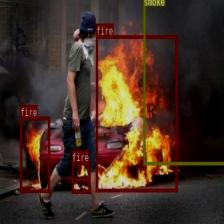fire: (96, 35, 178, 192), (20, 116, 49, 192), (72, 162, 90, 194)
smoke: (143, 0, 224, 164)
